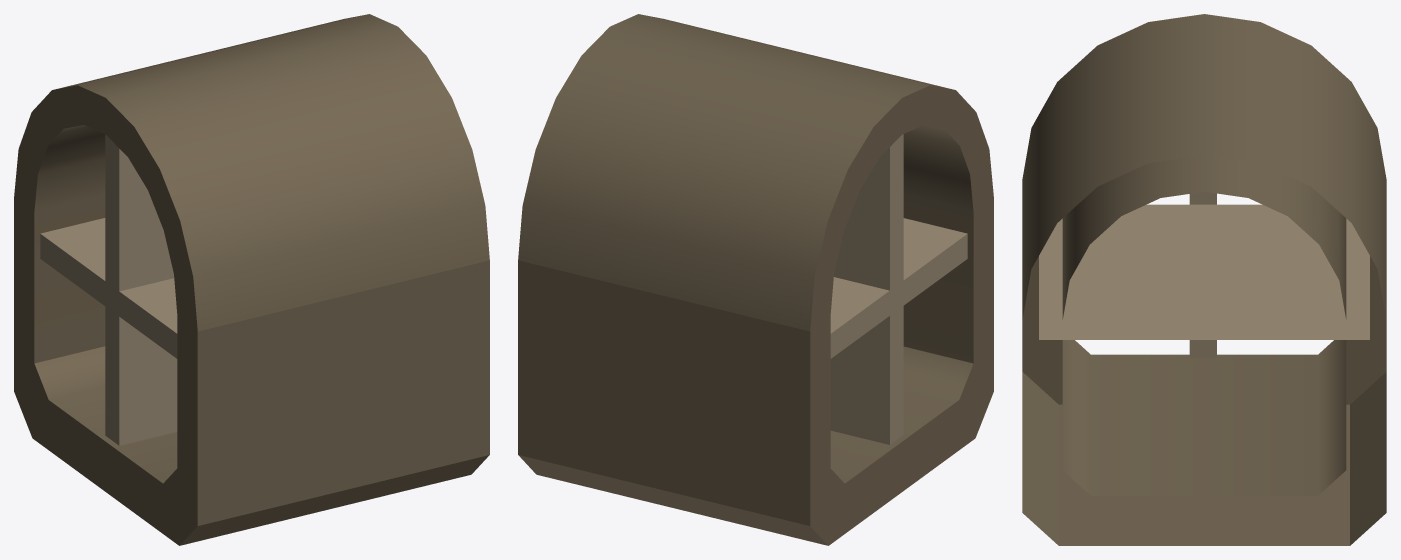
The model's file is SM_Window.fbx.
3 views of the same model, side by side, from view 1: azimuth 30°, elevation 25°; view 2: azimuth 150°, elevation 25°; view 3: azimuth 270°, elevation 25° (orthographic).
Visible parts, largest first — view 1: pCube67; view 2: pCube67; view 3: pCube67.
Boxes of the visible parts, x1=… form: pCube67: x1=14, y1=14, x2=489, y2=545; pCube67: x1=518, y1=14, x2=993, y2=545; pCube67: x1=1022, y1=14, x2=1386, y2=545.
Size of the model in its own units: 128 by 165 by 140.
